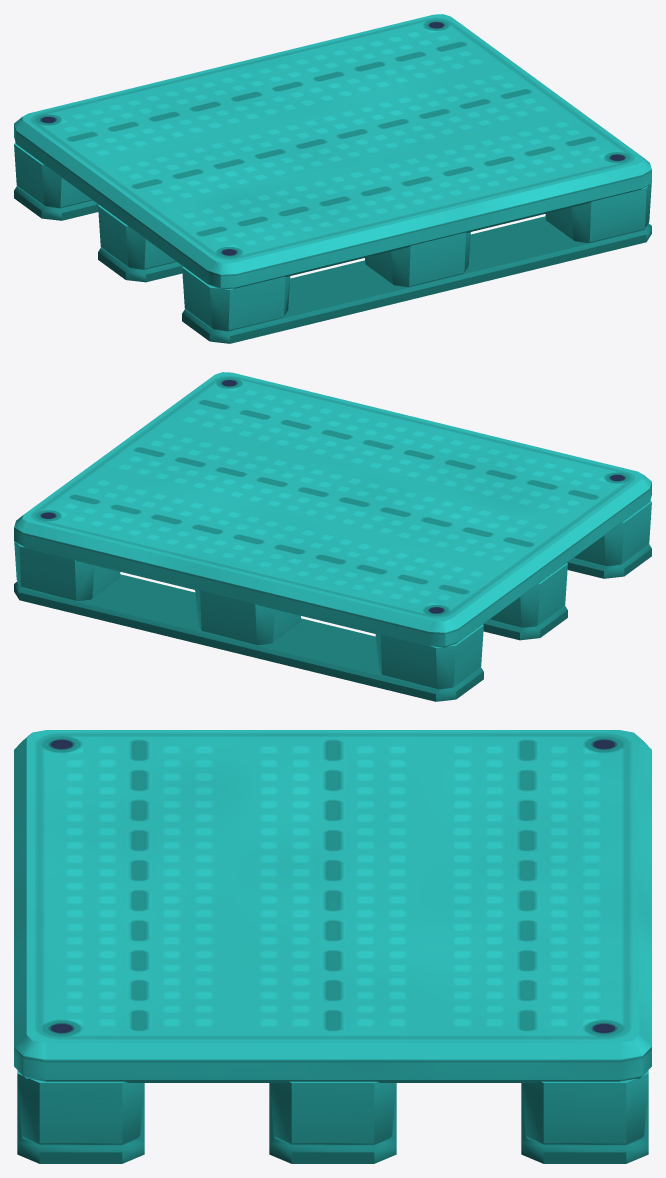
File: reception_pallet_lod1.glb
3 views of the same model, one above another, from view 1: azimuth 30°, elevation 25°; view 2: azimuth 150°, elevation 25°; view 3: azimuth 270°, elevation 25° (orthographic). The views are drawn at different scales.
Parts seen in each view (by area): view 1: reception_pallet_LOD1; view 2: reception_pallet_LOD1; view 3: reception_pallet_LOD1.
Boxes of the visible parts, x1,y1,x2,y2 form: reception_pallet_LOD1: [14, 14, 651, 343]; reception_pallet_LOD1: [14, 372, 651, 701]; reception_pallet_LOD1: [14, 730, 651, 1163].
Bounding box in the file's own units: 12 × 2 × 10.
Materials: 1 (1 with a texture image).
